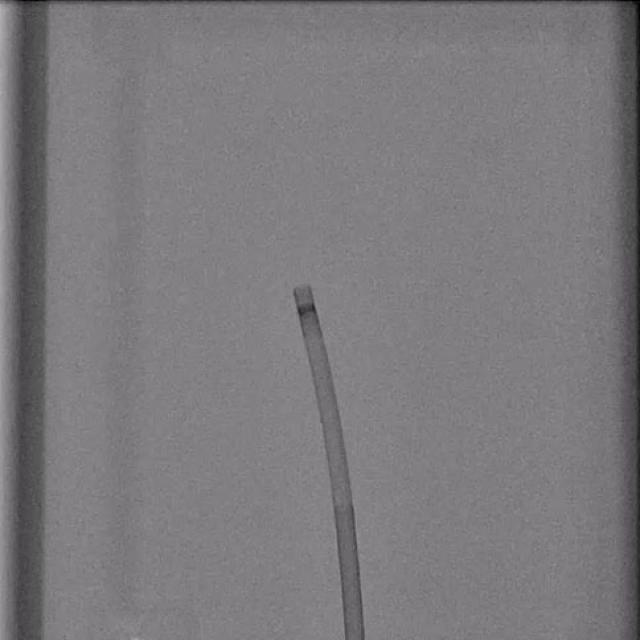bend: (332, 487, 353, 504)
entry: (347, 636, 365, 640)
marker: (297, 300, 318, 315)
tip: (293, 284, 311, 290)
